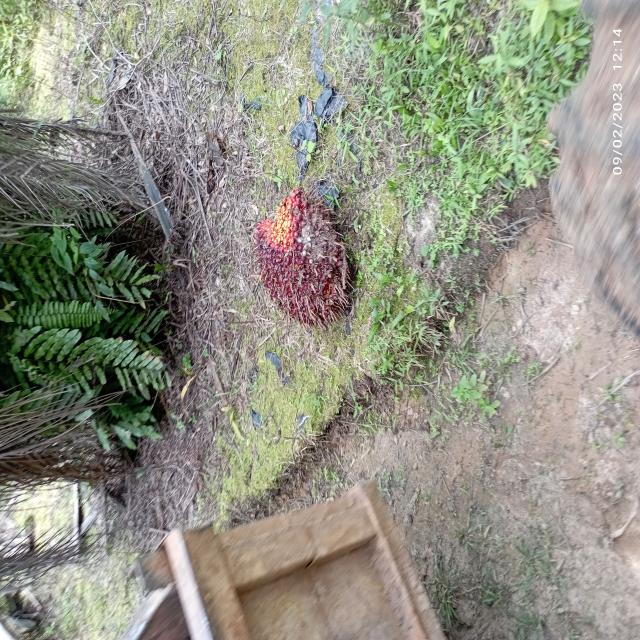fraksi 3: (242, 171, 371, 331)
